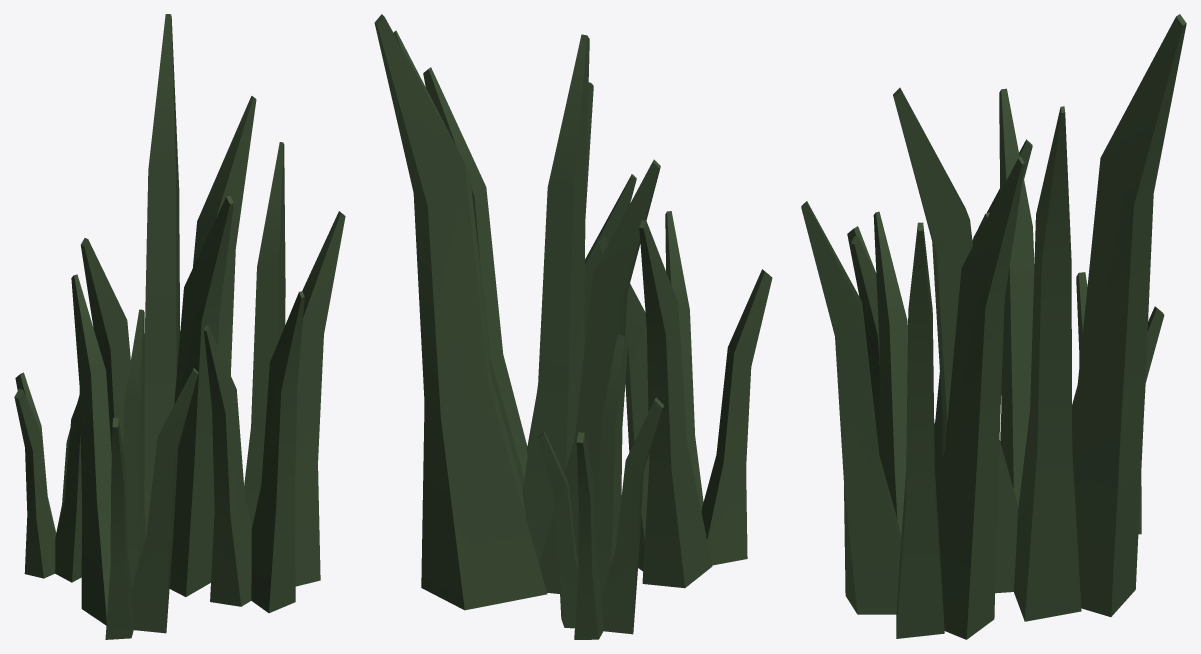
The model's file is Geo_Grass.fbx.
3 renders of one model, left to right at view 1: azimuth 30°, elevation 25°; view 2: azimuth 150°, elevation 25°; view 3: azimuth 270°, elevation 25°, orthographic. The views are drawn at different scales.
Parts seen in each view (by area): view 1: Grass_Mesh; view 2: Grass_Mesh; view 3: Grass_Mesh.
Boxes of the visible parts, x1=… form: Grass_Mesh: x1=14, y1=14, x2=345, y2=639; Grass_Mesh: x1=374, y1=14, x2=772, y2=639; Grass_Mesh: x1=801, y1=14, x2=1186, y2=639.
Size of the model in its own units: 19.55 by 34.97 by 20.2.
